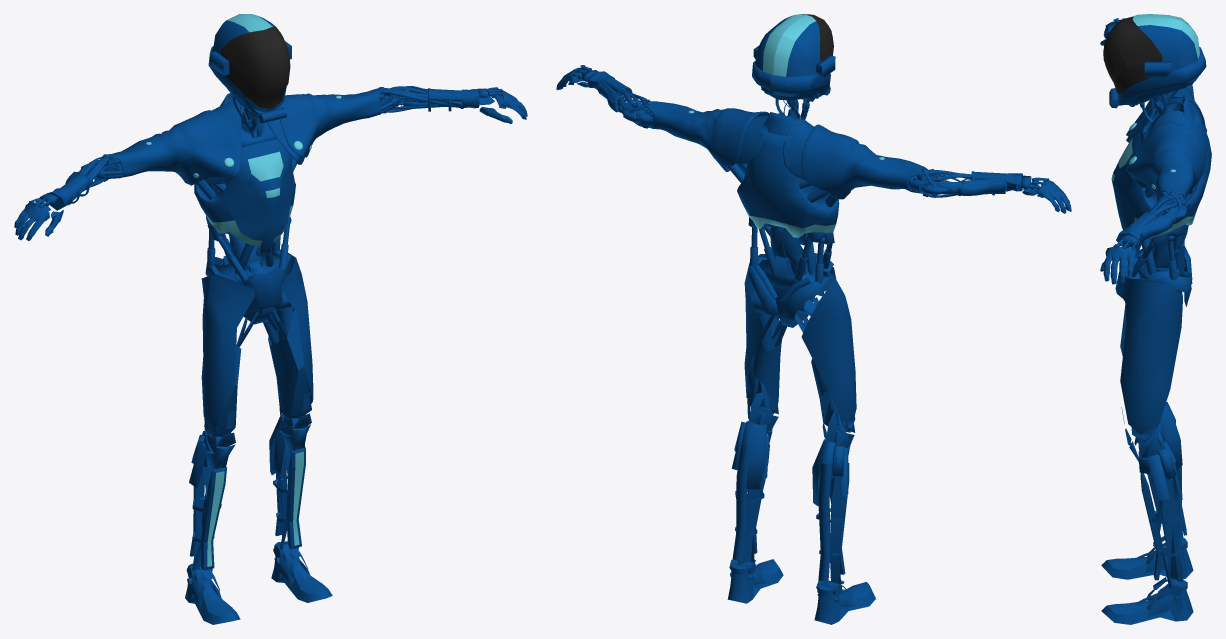
The model's file is FullUnitEHH.fbx.
3 renders of one model, left to right at view 1: azimuth 30°, elevation 25°; view 2: azimuth 150°, elevation 25°; view 3: azimuth 270°, elevation 25°, orthographic.
Parts seen in each view (by area): view 1: Mesh_203, Mesh_204, Mesh_0029, Mesh_211, Mesh_205, Mesh_206, Mesh_210, Mesh_212, Mesh_202; view 2: Mesh_203, Mesh_204, Mesh_0029, Mesh_211, Mesh_205, Mesh_212, Mesh_206, Mesh_210, Mesh_202; view 3: Mesh_203, Mesh_0029, Mesh_205, Mesh_204, Mesh_202, Mesh_206, Mesh_211.
Part boxes in pixels (left/top/right/bottom): Mesh_203: left=185, top=247, right=332, bottom=624; Mesh_204: left=194, top=139, right=297, bottom=281; Mesh_0029: left=208, top=14, right=291, bottom=147; Mesh_211: left=102, top=102, right=241, bottom=185; Mesh_205: left=267, top=88, right=385, bottom=164; Mesh_206: left=368, top=86, right=463, bottom=118; Mesh_210: left=14, top=187, right=72, bottom=240; Mesh_212: left=61, top=154, right=132, bottom=205; Mesh_202: left=462, top=87, right=527, bottom=123; Mesh_203: left=727, top=253, right=875, bottom=624; Mesh_204: left=727, top=128, right=839, bottom=283; Mesh_0029: left=752, top=14, right=835, bottom=135; Mesh_211: left=782, top=118, right=928, bottom=199; Mesh_205: left=644, top=101, right=782, bottom=171; Mesh_212: left=909, top=168, right=1005, bottom=197; Mesh_206: left=597, top=77, right=653, bottom=128; Mesh_210: left=1005, top=173, right=1071, bottom=213; Mesh_202: left=556, top=65, right=614, bottom=90; Mesh_203: left=1101, top=241, right=1193, bottom=624; Mesh_0029: left=1103, top=14, right=1206, bottom=143; Mesh_205: left=1126, top=110, right=1206, bottom=202; Mesh_204: left=1111, top=107, right=1211, bottom=280; Mesh_202: left=1100, top=226, right=1142, bottom=284; Mesh_206: left=1128, top=191, right=1186, bottom=243; Mesh_211: left=1126, top=84, right=1206, bottom=142.
Bounding box in the file's own units: 172 × 186 × 32.6.
